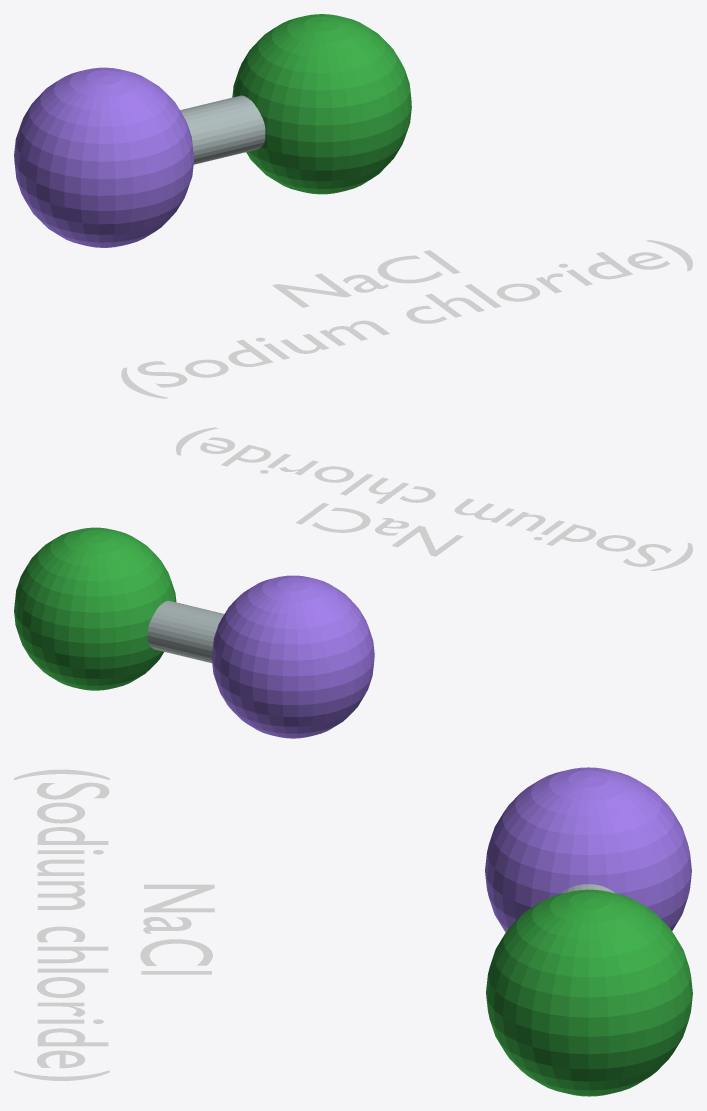
The model's file is NACl molecule .fbx.
The picture shows the model from 3 angles, top to bottom: view 1: azimuth 30°, elevation 25°; view 2: azimuth 150°, elevation 25°; view 3: azimuth 270°, elevation 25°; orthographic projection. The views are drawn at different scales.
Visible parts, largest first — view 1: Sphere, Sphere.001, Text.001, Cylinder, Text; view 2: Sphere, Sphere.001, Text.001, Cylinder, Text; view 3: Sphere.001, Sphere, Text.001, Text.
Boxes of the visible parts, x1,y1,x2,y2 form: Sphere: (14,67,193,247); Sphere.001: (232,14,411,194); Text.001: (121,240,692,398); Cylinder: (180,95,265,164); Text: (272,273,388,307); Sphere: (212,575,374,738); Sphere.001: (14,527,176,690); Text.001: (175,427,692,570); Cylinder: (147,600,224,663); Text: (375,518,463,556); Sphere.001: (486,889,692,1096); Sphere: (485,767,691,932); Text.001: (14,769,212,1080); Text: (143,884,214,933).
Size of the model in its own units: 712 by 200 by 656.
